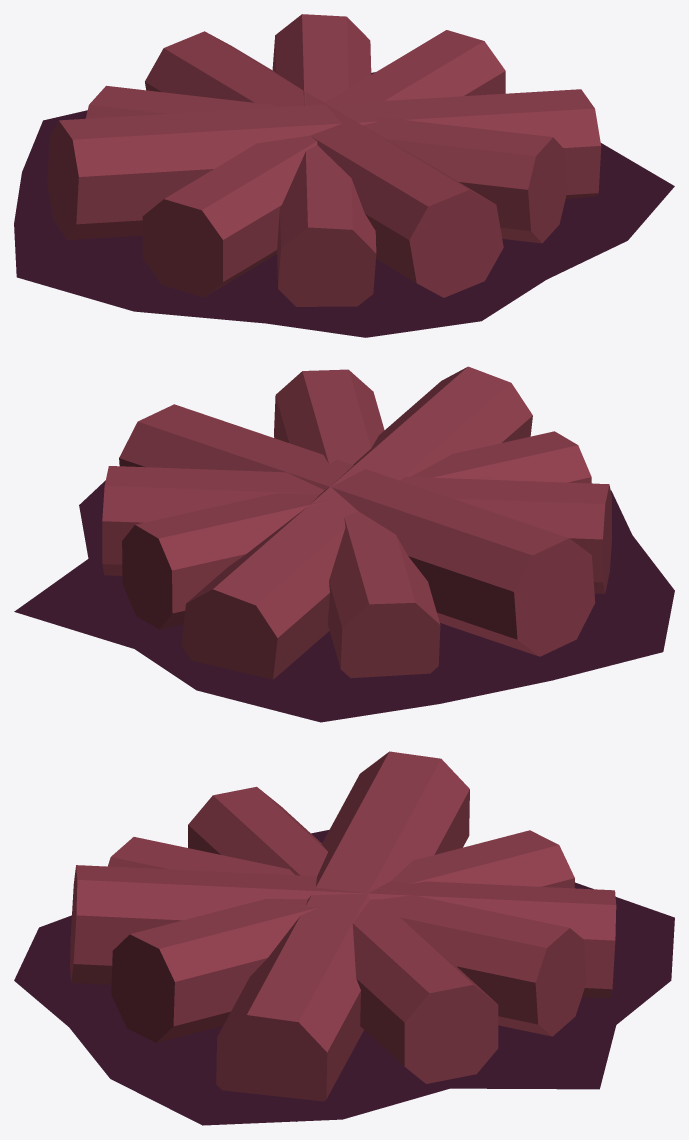
The model's file is fireplace.glb.
3 renders of one model, top to bottom at view 1: azimuth 30°, elevation 25°; view 2: azimuth 150°, elevation 25°; view 3: azimuth 270°, elevation 25°, orthographic. The views are drawn at different scales.
Parts seen in each view (by area): view 1: Logs, Ash; view 2: Logs, Ash; view 3: Logs, Ash.
Boxes of the visible parts, <box> form: Logs: <box>47,14,601,306</box>; Ash: <box>14,72,674,337</box>; Logs: <box>102,366,611,679</box>; Ash: <box>14,480,674,722</box>; Logs: <box>70,751,616,1121</box>; Ash: <box>14,829,674,1125</box>.
Bounding box in the file's own units: 2.63 × 0.5546 × 2.45.
1 material, 1 textured.
